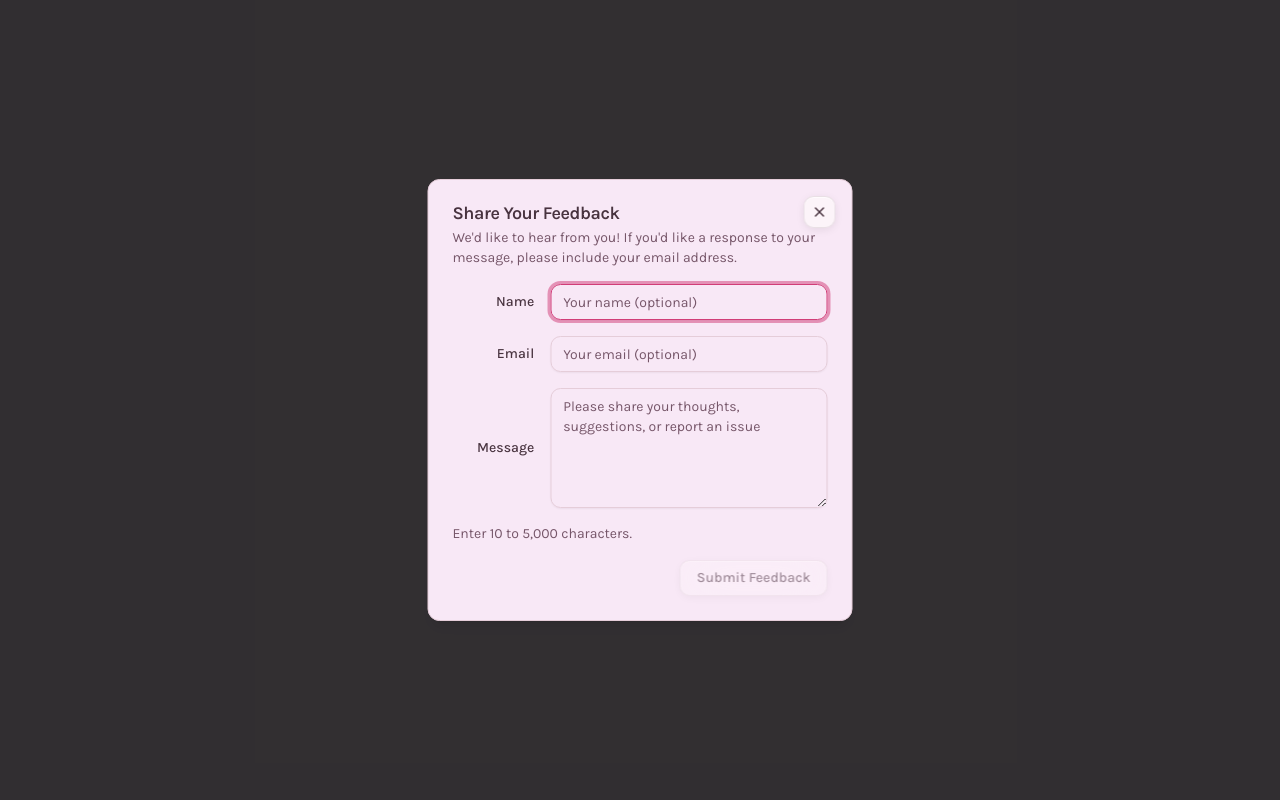
Test case: FeedbackDialog › keeps the draft when feedback delivery fails
The width and height of the screenshot is (1280, 800).
In the text box labelled "Message": (689, 448) [550,388,828,508], type "Please keep this feedback draft available."
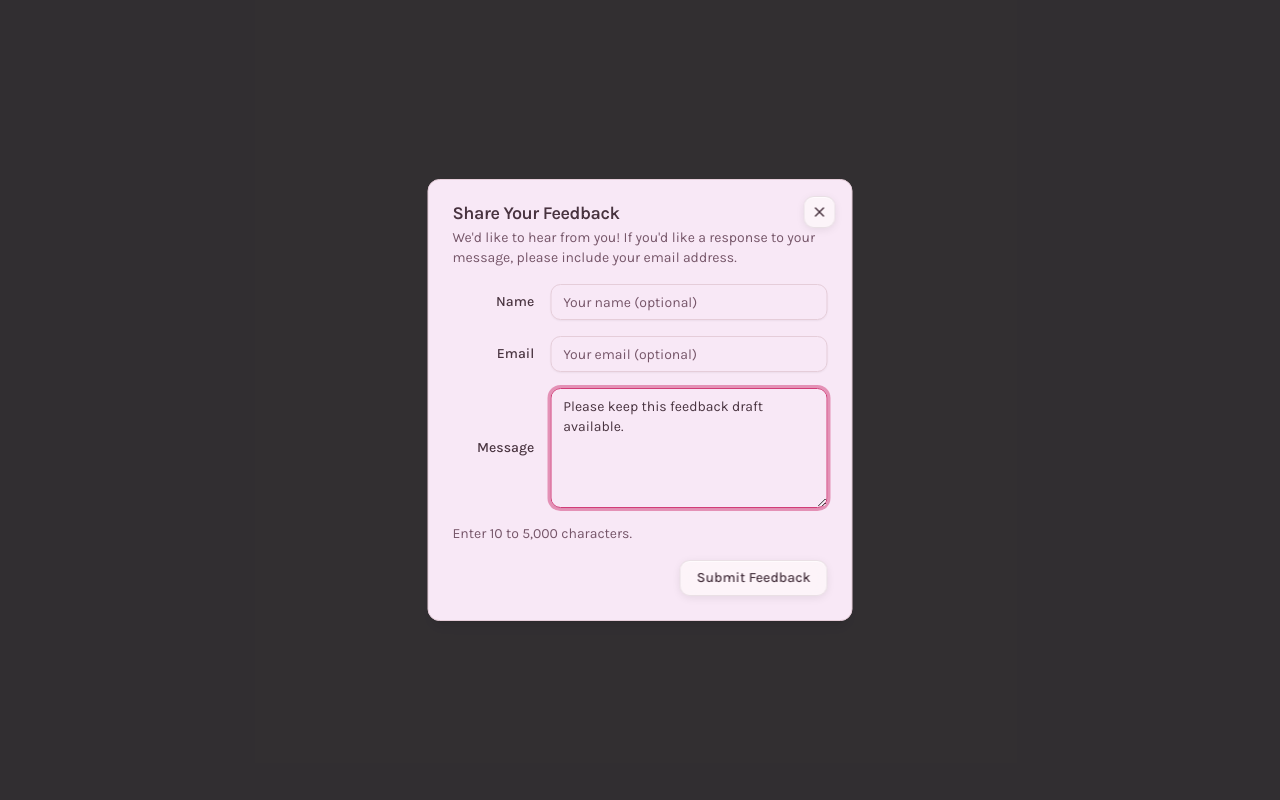
Click the button "Submit Feedback": (754, 578) [680,560,828,596]
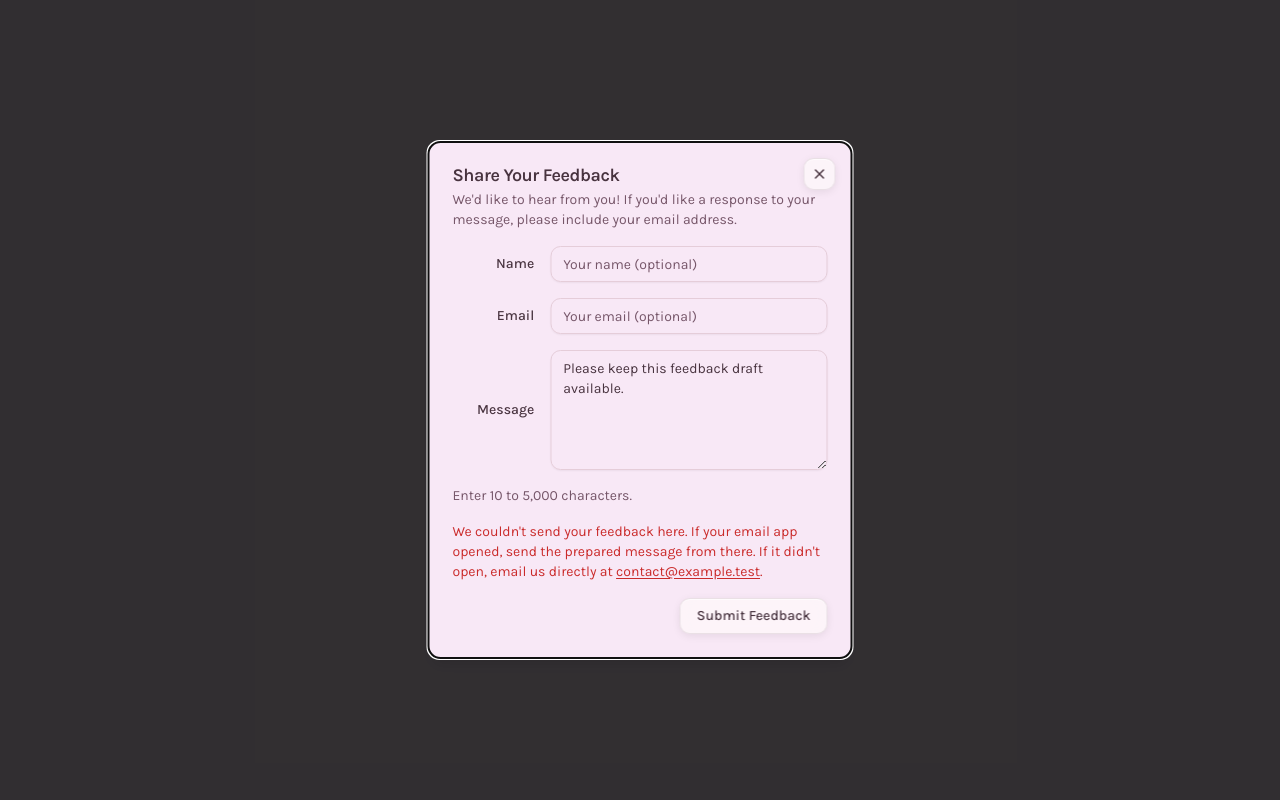
Now the message shows "We couldn't send your feedback here. If your email app opened, send the prepared message from there. If it didn't open, email us directly at contact@example.tes", box [452,522,828,582]
